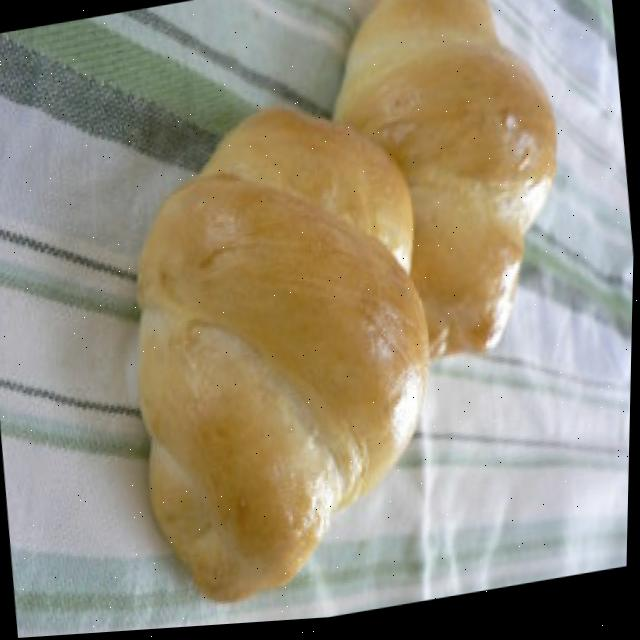面包点心: (105, 74, 471, 627)
